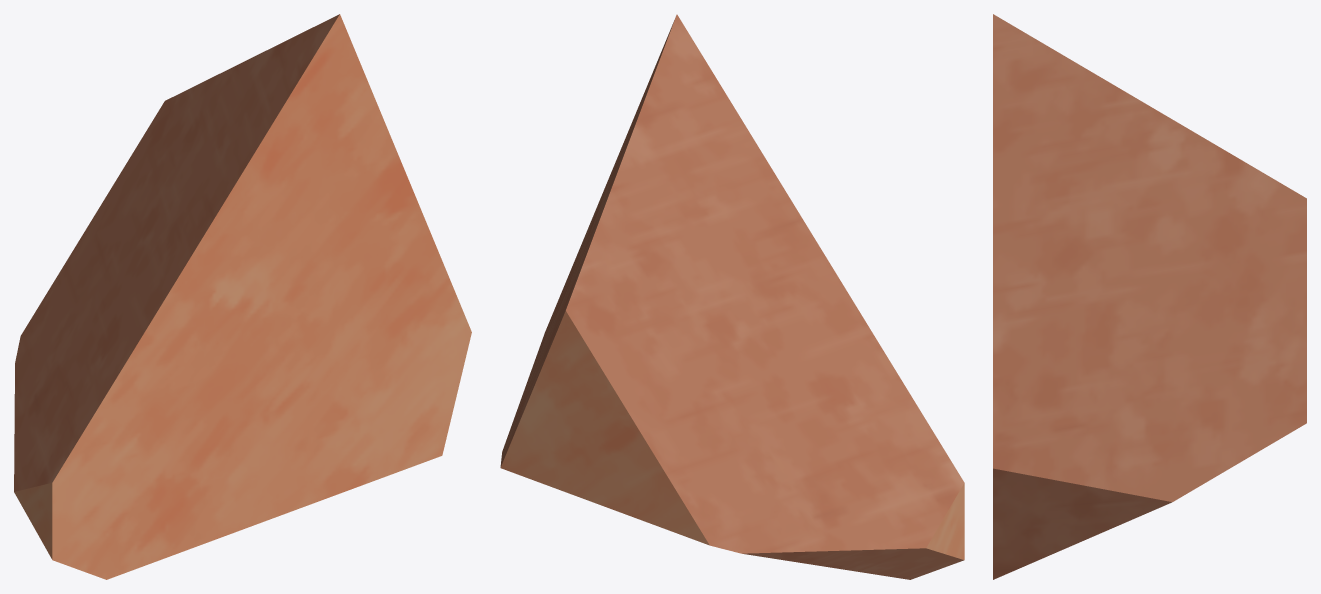
The model's file is townwall_s11.fbx.
3 views of the same model, side by side, from view 1: azimuth 30°, elevation 25°; view 2: azimuth 150°, elevation 25°; view 3: azimuth 270°, elevation 25° (orthographic). The views are drawn at different scales.
Parts seen in each view (by area): view 1: townwall_s11; view 2: townwall_s11; view 3: townwall_s11.
Boxes of the visible parts, bbox=[...] form: townwall_s11: bbox=[14, 14, 471, 579]; townwall_s11: bbox=[500, 14, 964, 579]; townwall_s11: bbox=[993, 14, 1306, 579].
Bounding box in the file's own units: 5.07 × 5.88 × 3.
